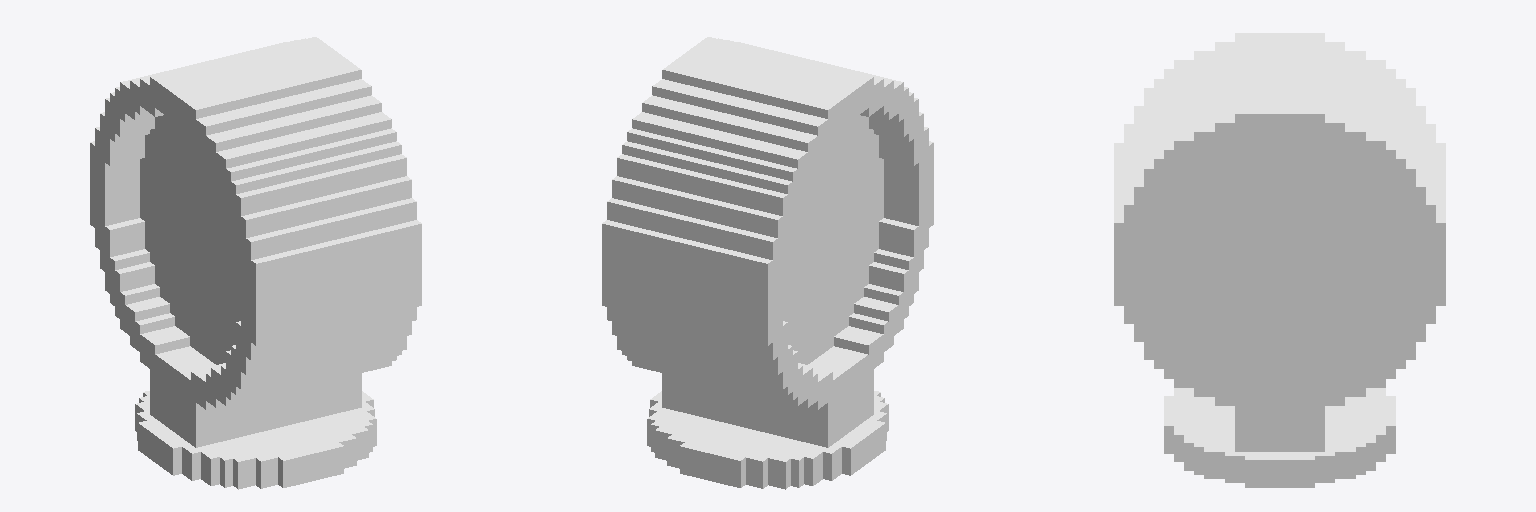
Rendered from batisenal.obj.
The picture shows the model from 3 angles: view 1: azimuth 30°, elevation 25°; view 2: azimuth 150°, elevation 25°; view 3: azimuth 270°, elevation 25°; orthographic projection.
Parts seen in each view (by area): view 1: object 1; view 2: object 1; view 3: object 1.
Part boxes in pixels (bbox=[...]): object 1: bbox=[90, 37, 421, 489]; object 1: bbox=[602, 37, 933, 489]; object 1: bbox=[1114, 33, 1445, 487].
Bounding box in the file's own units: 2.3 × 4 × 3.3.